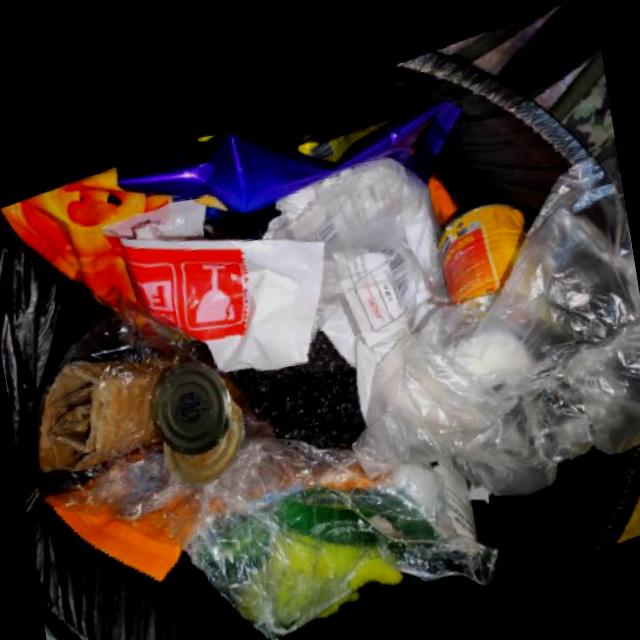bao_bi_thuc_pham: (0, 98, 461, 300), (52, 496, 181, 572)
nhom: (438, 199, 533, 301), (161, 382, 244, 476), (151, 353, 232, 448)
tui_ni_long: (35, 304, 491, 636)
